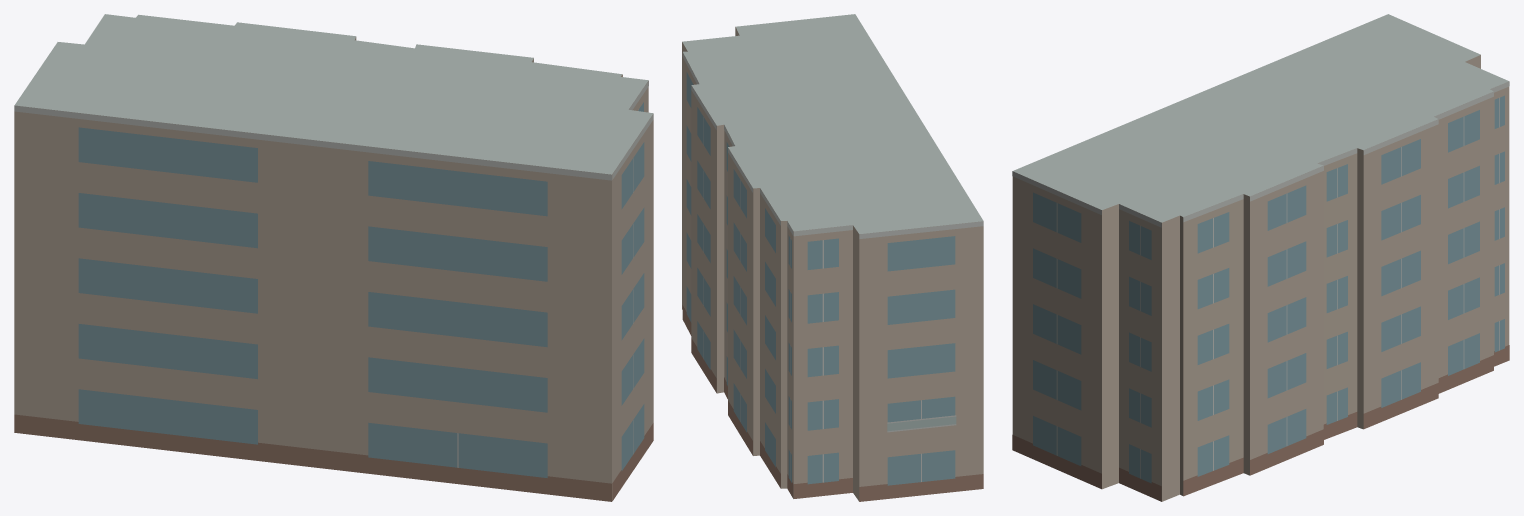
File: survey-upis-32899164.glb
3 renders of one model, left to right at view 1: azimuth 30°, elevation 25°; view 2: azimuth 150°, elevation 25°; view 3: azimuth 270°, elevation 25°, orthographic. The views are drawn at different scales.
Visible parts, largest first — view 1: survey-upis-32899164.tmp; view 2: survey-upis-32899164.tmp; view 3: survey-upis-32899164.tmp.
Part boxes in pixels (box(x1,y1,x2,y2)): survey-upis-32899164.tmp: box(14, 14, 653, 501); survey-upis-32899164.tmp: box(682, 14, 983, 501); survey-upis-32899164.tmp: box(1012, 14, 1509, 501).
Size of the model in its own units: 21.18 by 13.2 by 21.3.
